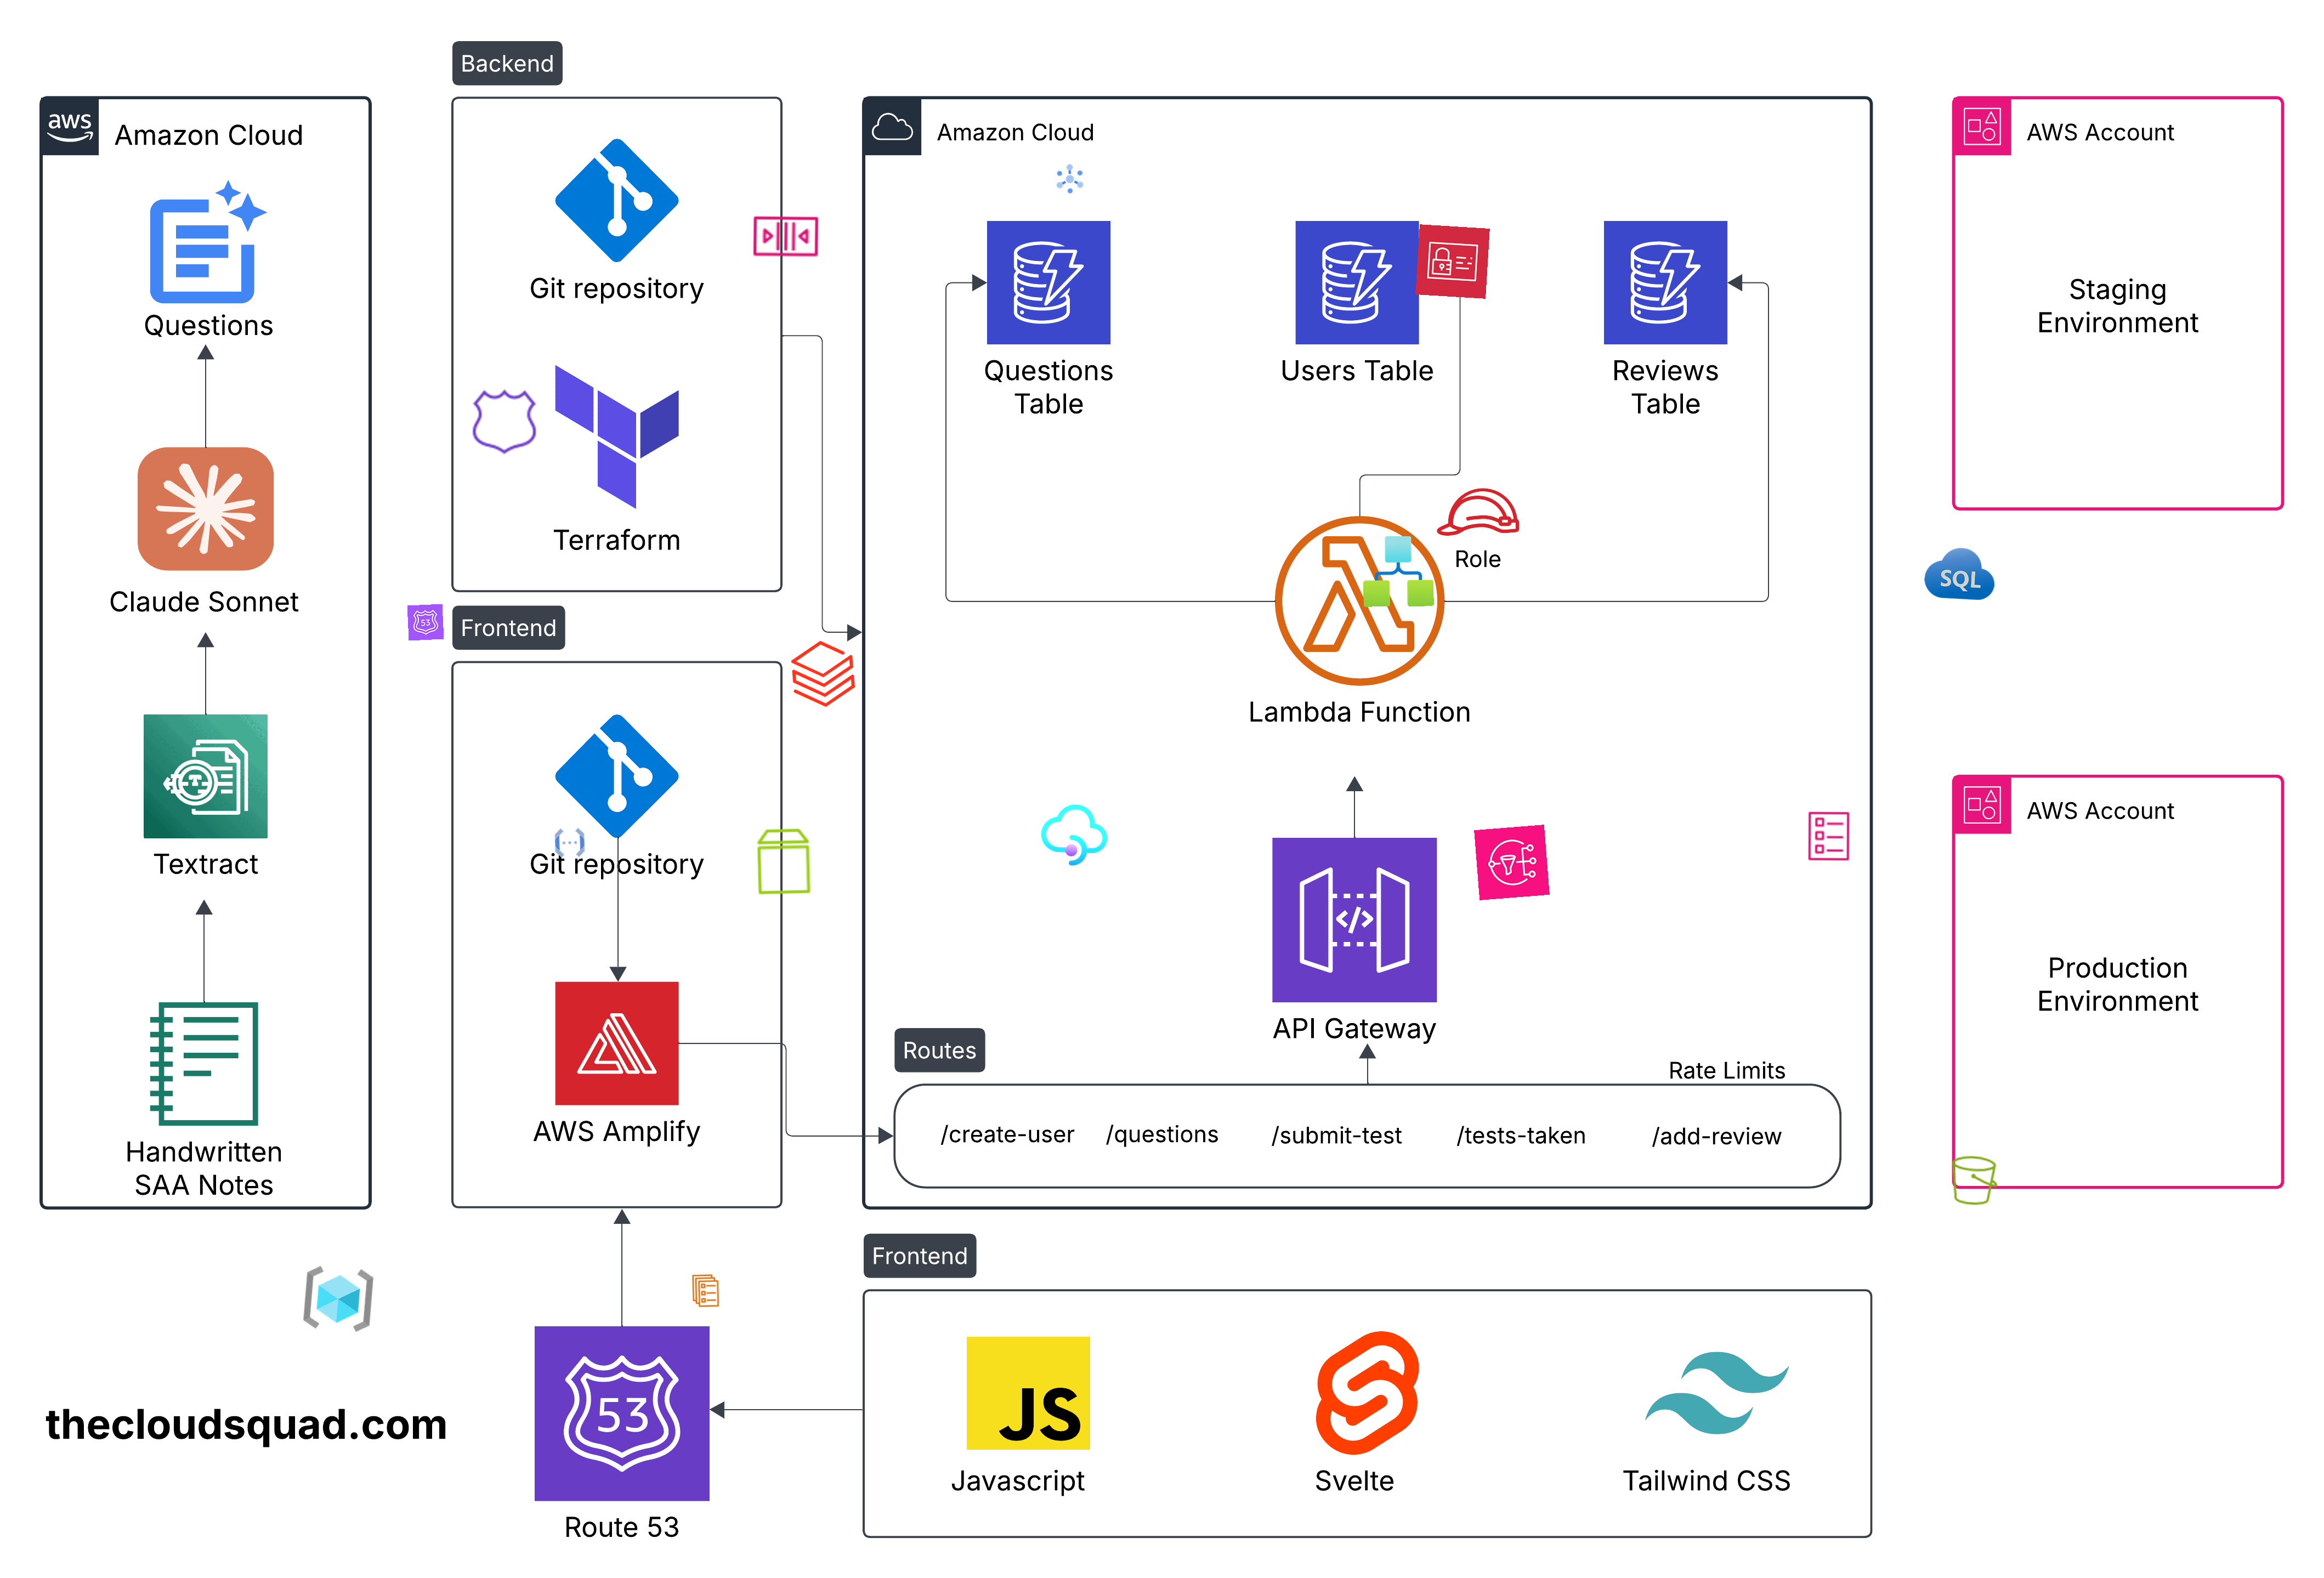aws_amazon_route_53: (407, 604, 444, 641)
aws_amazon_simple_notification_service: (1474, 824, 1549, 900)
aws_cloudformation_template: (1801, 810, 1856, 863)
aws_elastic_block_store_volume: (748, 826, 820, 898)
aws_elastic_container_service_service: (688, 1273, 724, 1309)
aws_identity_and_access_management: (1416, 224, 1489, 299)
aws_route_53_hosted_zone: (470, 386, 541, 458)
aws_simple_queue_service_queue: (750, 201, 822, 271)
aws_simple_storage_service_s3_standard: (1945, 1152, 2002, 1208)
azure_api_management_services: (1037, 798, 1111, 872)
azure_databricks: (785, 636, 861, 712)
azure_logic_apps: (1363, 535, 1433, 608)
azure_resource_groups: (299, 1261, 377, 1337)
azure_sql: (1923, 537, 1997, 611)
gcp_cloud_functions: (551, 824, 588, 861)
gcp_pubsub: (1051, 160, 1088, 197)
